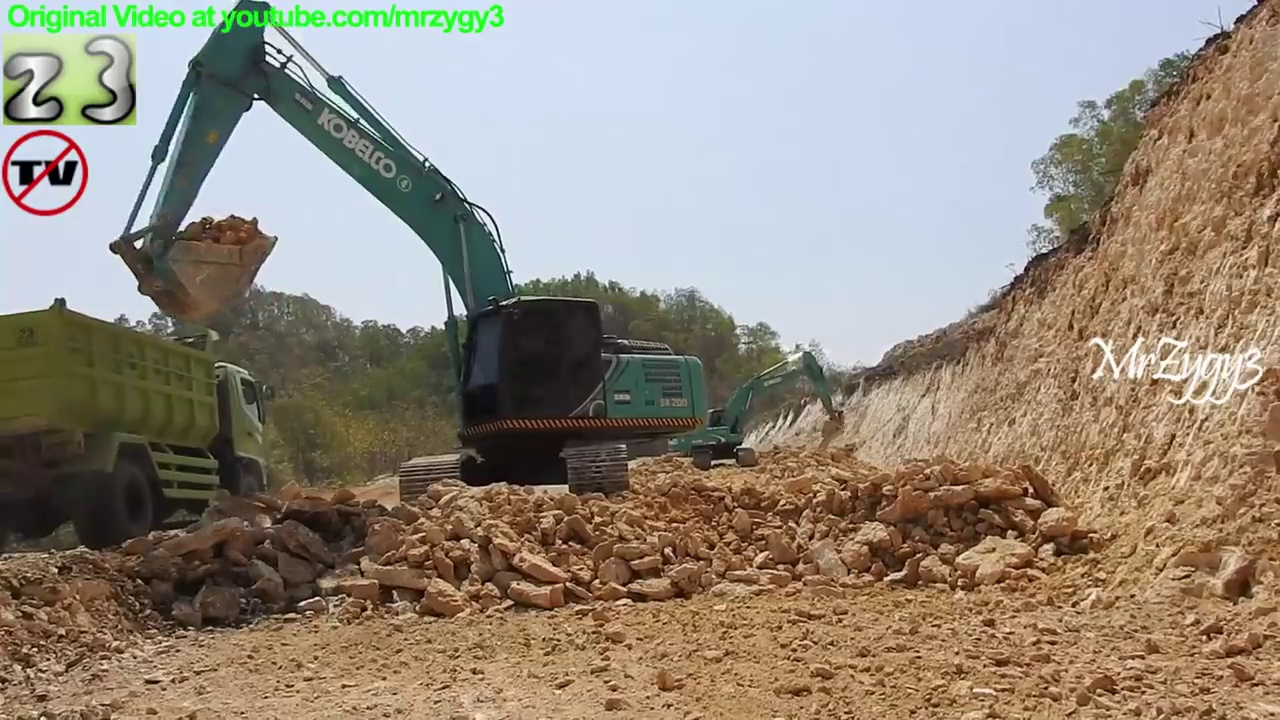excavator: (103, 1, 716, 527), (675, 341, 848, 475)
truck: (1, 290, 282, 559)
